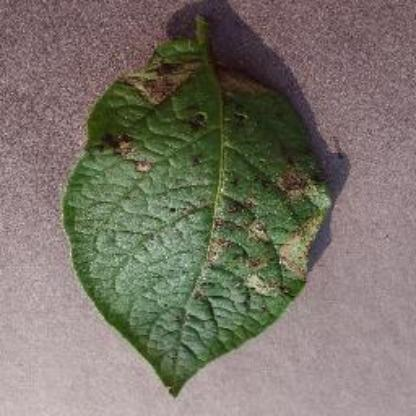Late-Blight: (45, 24, 355, 396)
